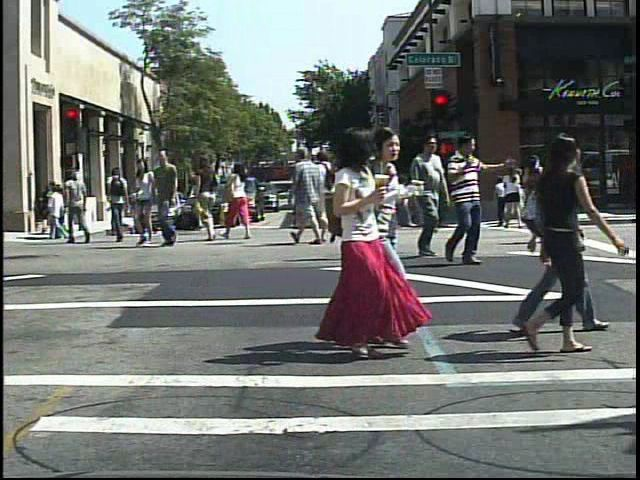person: (508, 129, 631, 368), (306, 125, 403, 367), (517, 132, 611, 338), (441, 129, 500, 268), (349, 134, 397, 264), (403, 136, 450, 261), (545, 134, 591, 250), (368, 128, 406, 250), (151, 147, 190, 252), (129, 159, 164, 252), (293, 142, 323, 244), (314, 148, 344, 248), (192, 153, 221, 242), (62, 166, 93, 245), (104, 163, 134, 243), (223, 160, 252, 240), (331, 161, 352, 230), (502, 161, 525, 212)
